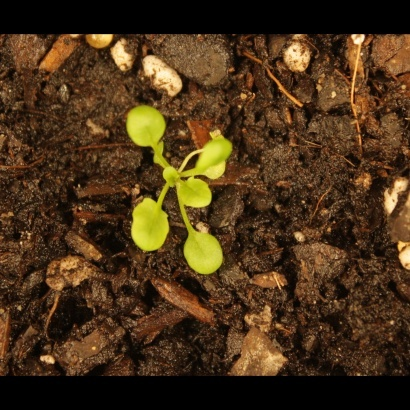leaf: (176, 231, 231, 283), (121, 103, 174, 152), (131, 193, 171, 256), (186, 135, 235, 175), (173, 177, 216, 214), (154, 159, 187, 191)
